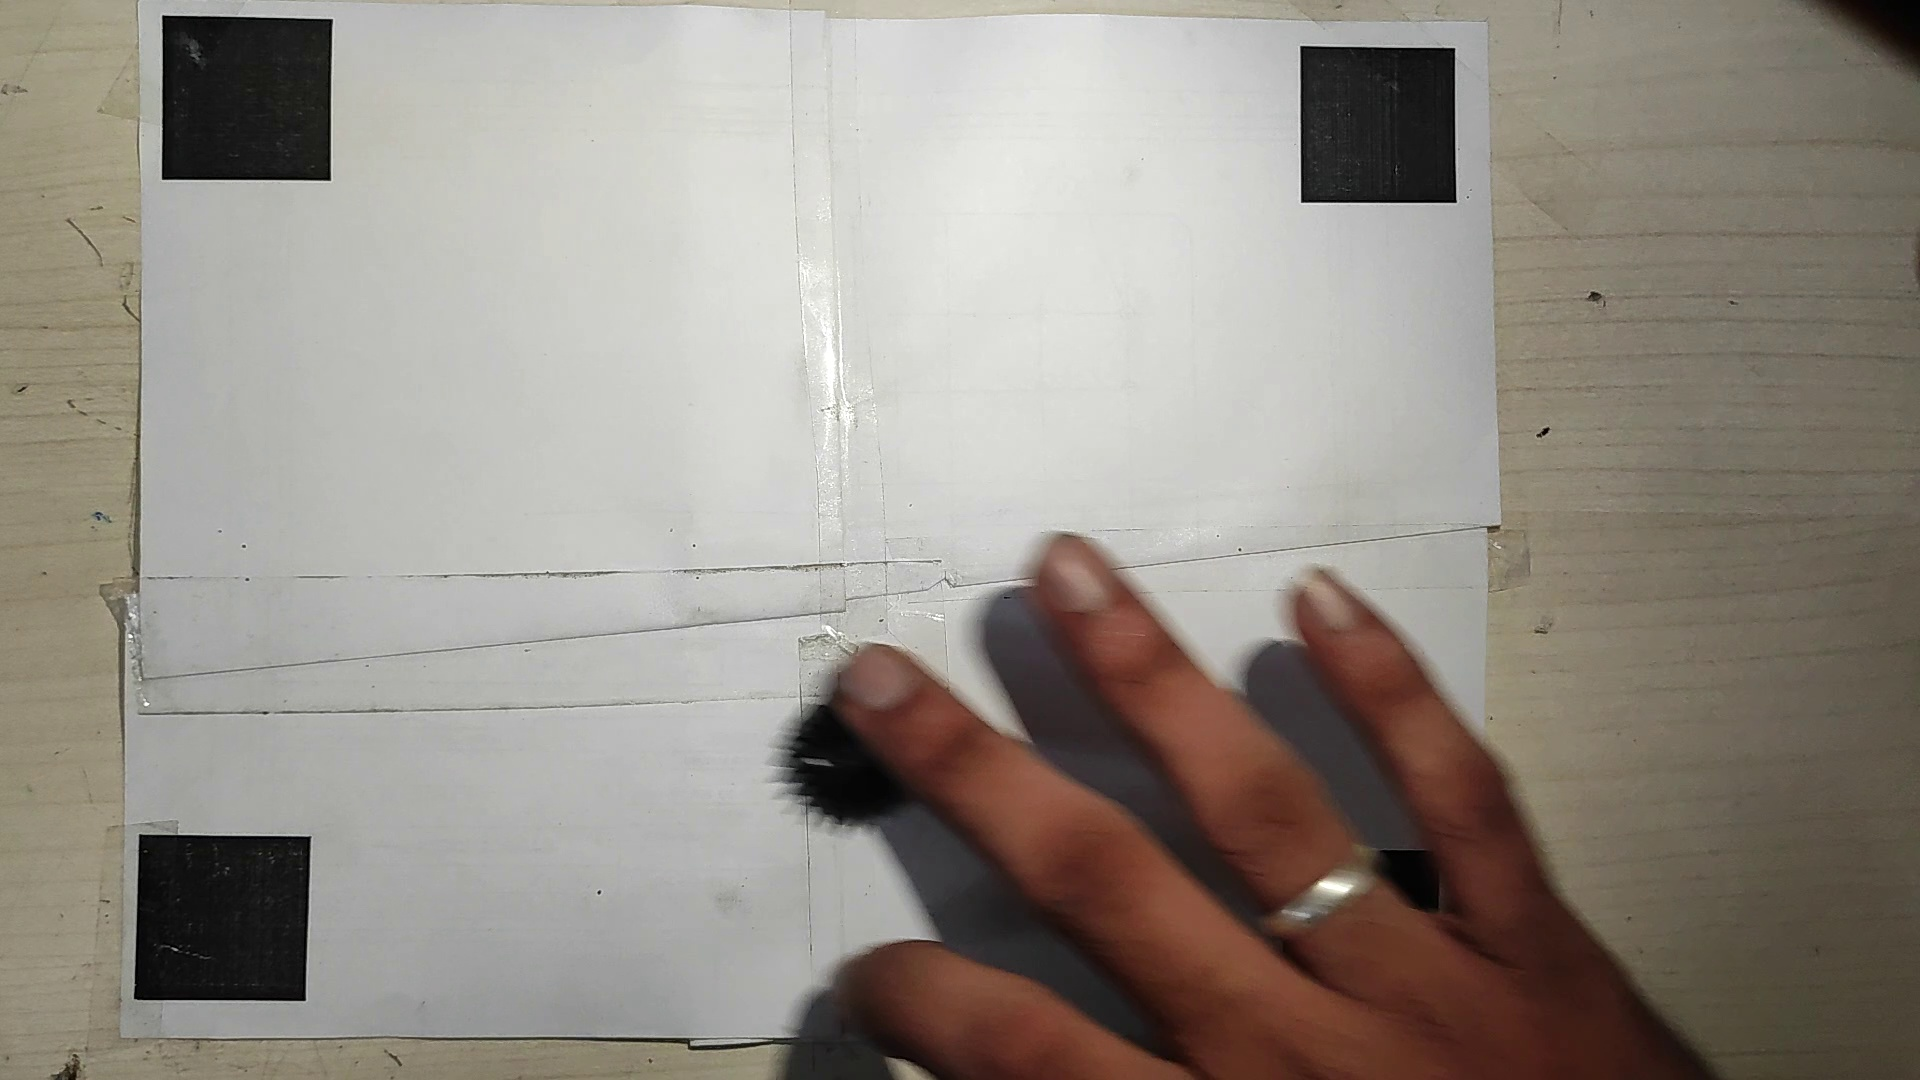Gear: (766, 690, 931, 835)
